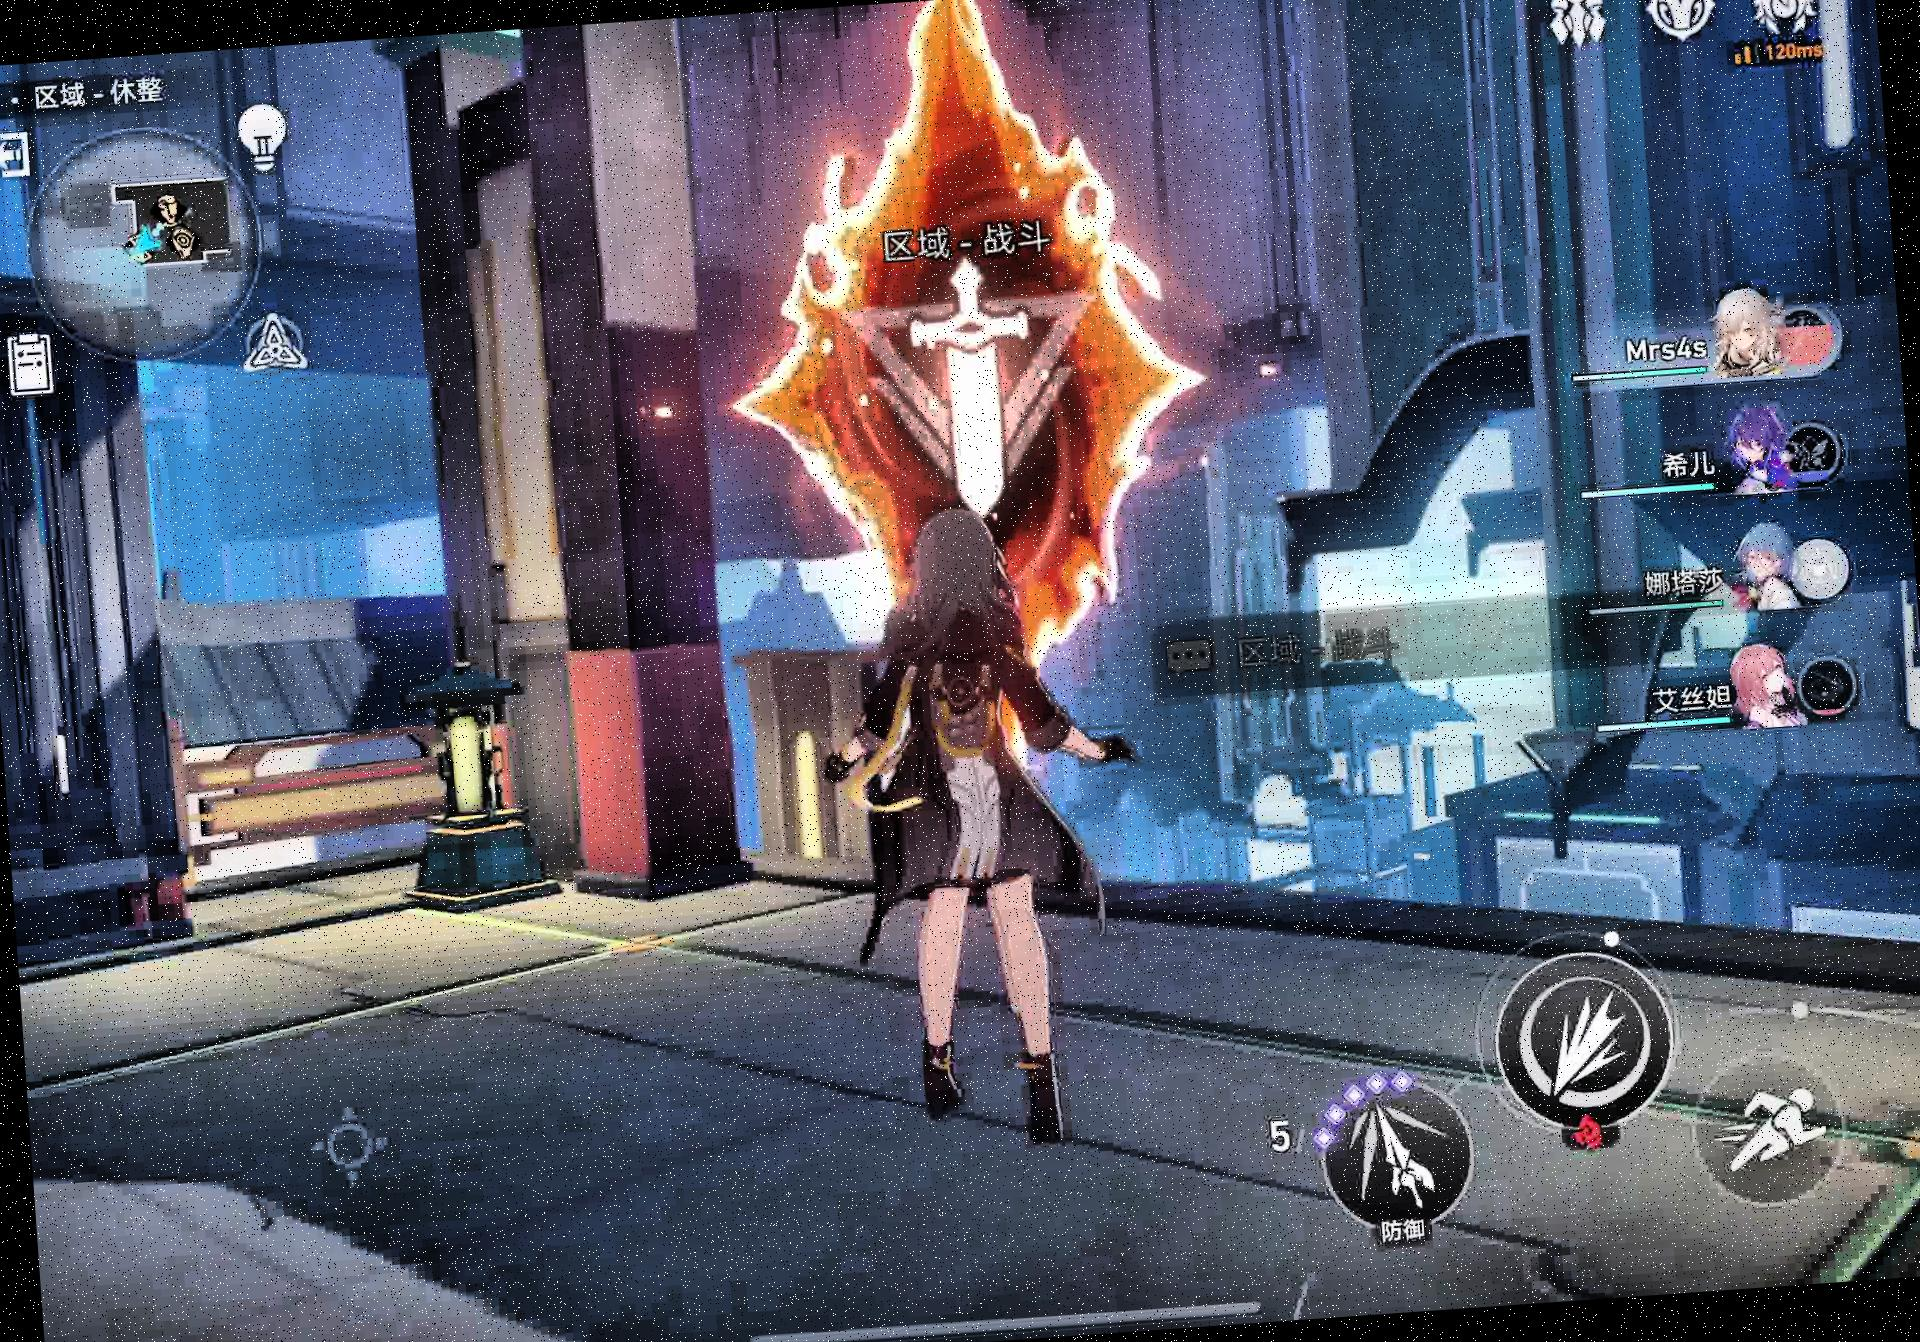BattleDoor: (705, 0, 1252, 792)
Self: (840, 494, 1158, 1164)
